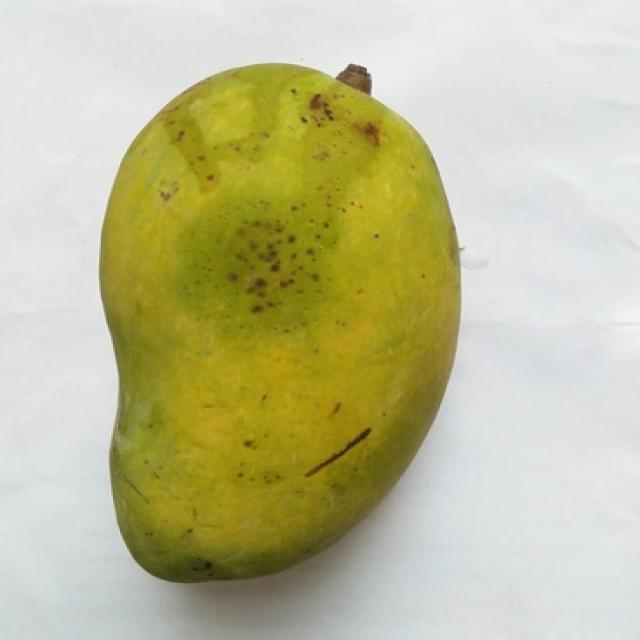Mango: (101, 64, 459, 580)
